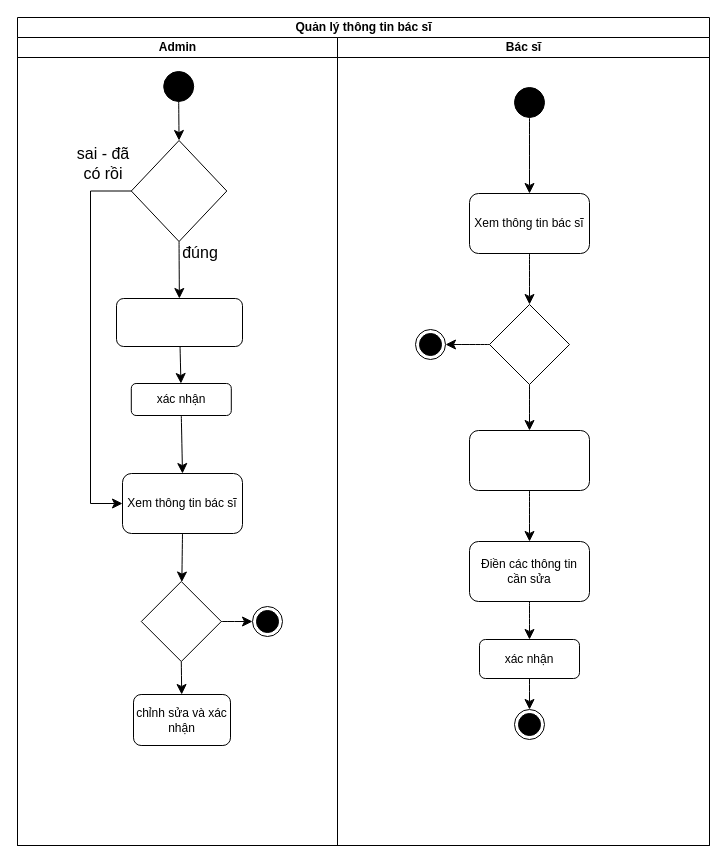
Some shapes in this 727 by 863 pixel diagram are drawn without their labels. The centre of each missing label's shape, as x and y in pixels:
bấm nút yêu cầu sửa thông tin: point (529, 460)
chỉnh sửa thông tin bác sĩ: point (180, 621)
Thêm thông tin bác sĩ: point (179, 322)
TK bác sĩ mới tạo chưa có thông tin gì: point (178, 191)
Đề nghị sửa thông tin: point (529, 344)
